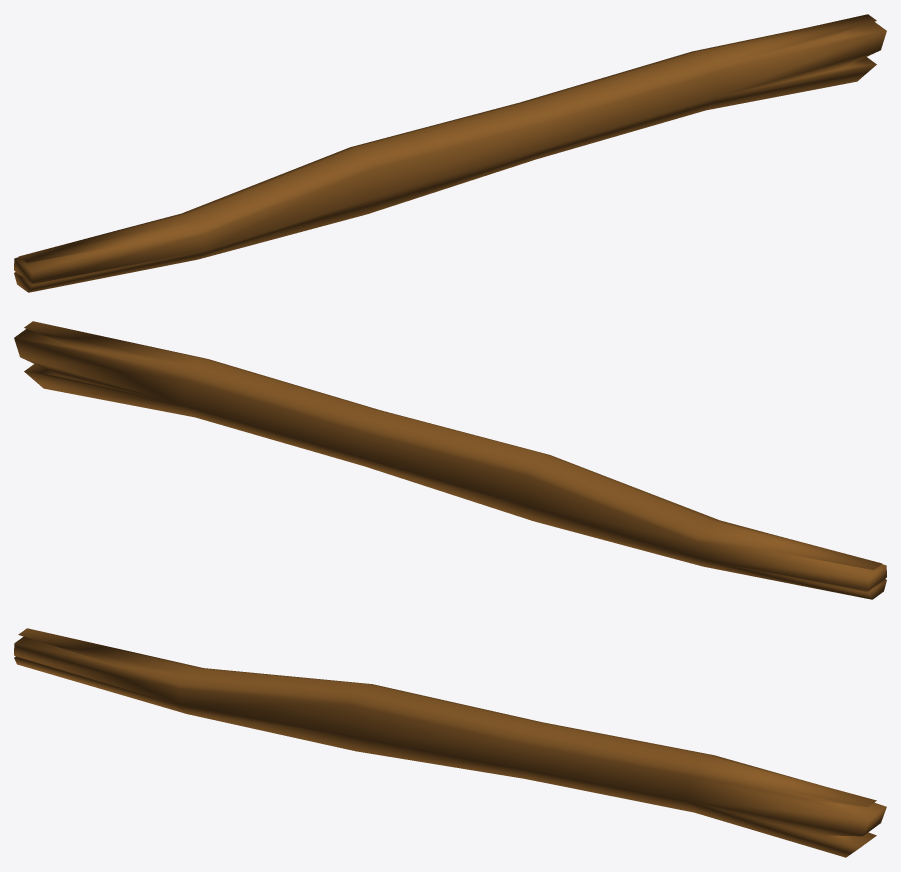
The model's file is stick.fbx.
The picture shows the model from 3 angles, top to bottom: view 1: azimuth 30°, elevation 25°; view 2: azimuth 150°, elevation 25°; view 3: azimuth 330°, elevation 25°; orthographic projection.
Visible parts, largest first — view 1: Plank.005; view 2: Plank.005; view 3: Plank.005.
Part boxes in pixels (x1,y1,x2,y2): Plank.005: (14,14,886,292); Plank.005: (14,321,886,599); Plank.005: (14,628,886,857).
Size of the model in its own units: 101 by 8.55 by 6.61.
